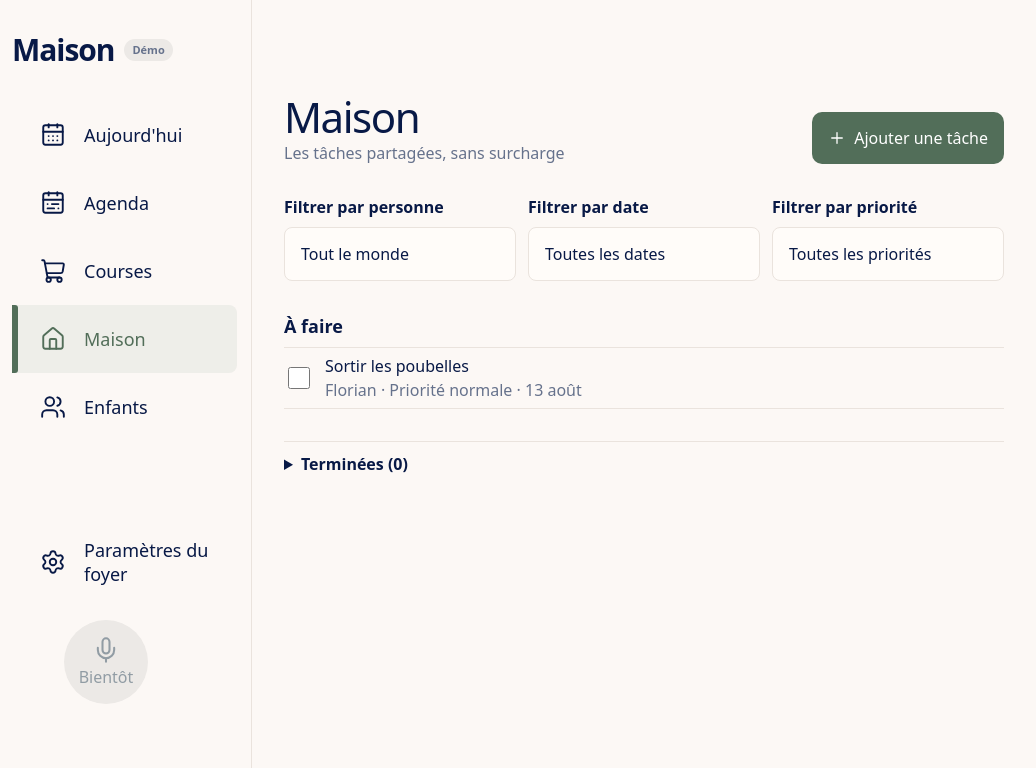
Test: shows an actionable error and leaves a task open when completion fails
This screenshot has width=1036, height=768.
Click the checkbox labelled "Sortir les poubelles": (299, 378) [288, 367, 310, 389]
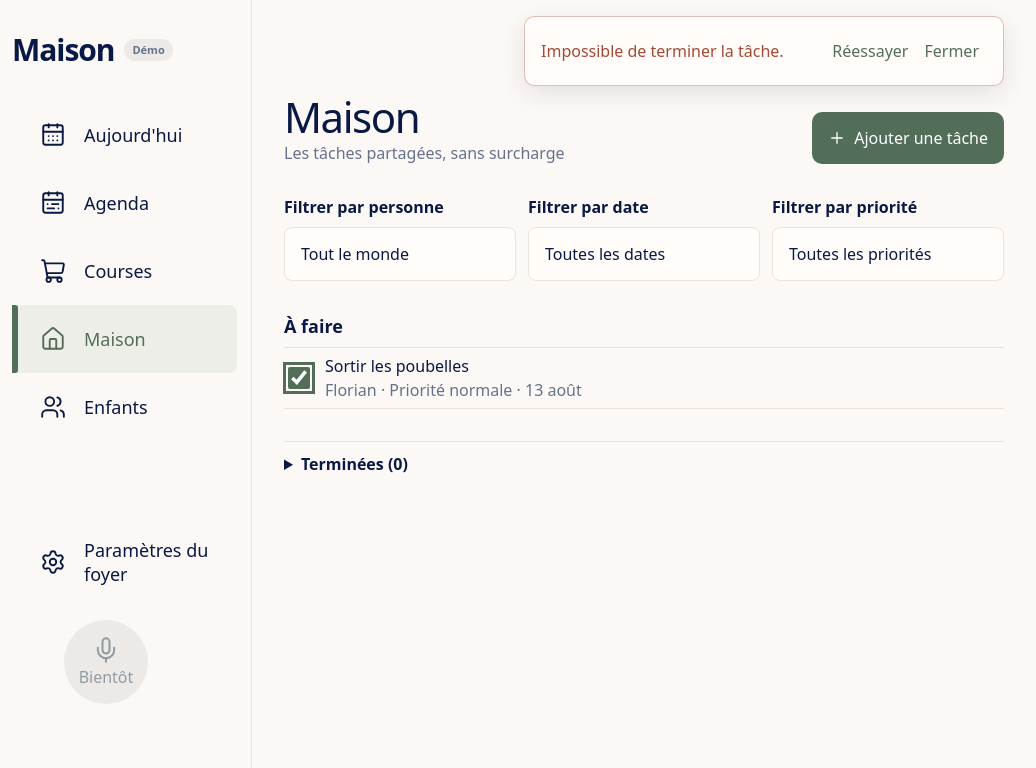
Check: the element "À faire" shows "Sortir les poubelles", box [325, 355, 469, 377]
Check: the message shows "terminer la tâche", box [541, 40, 784, 62]
